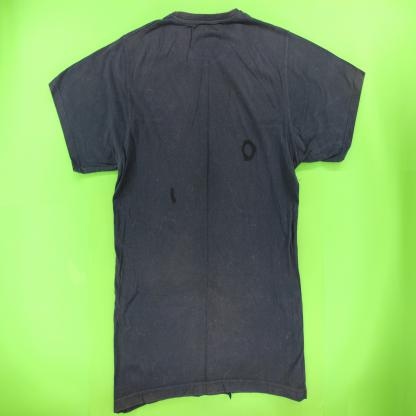stain: (240, 138, 258, 164), (169, 185, 177, 206)
